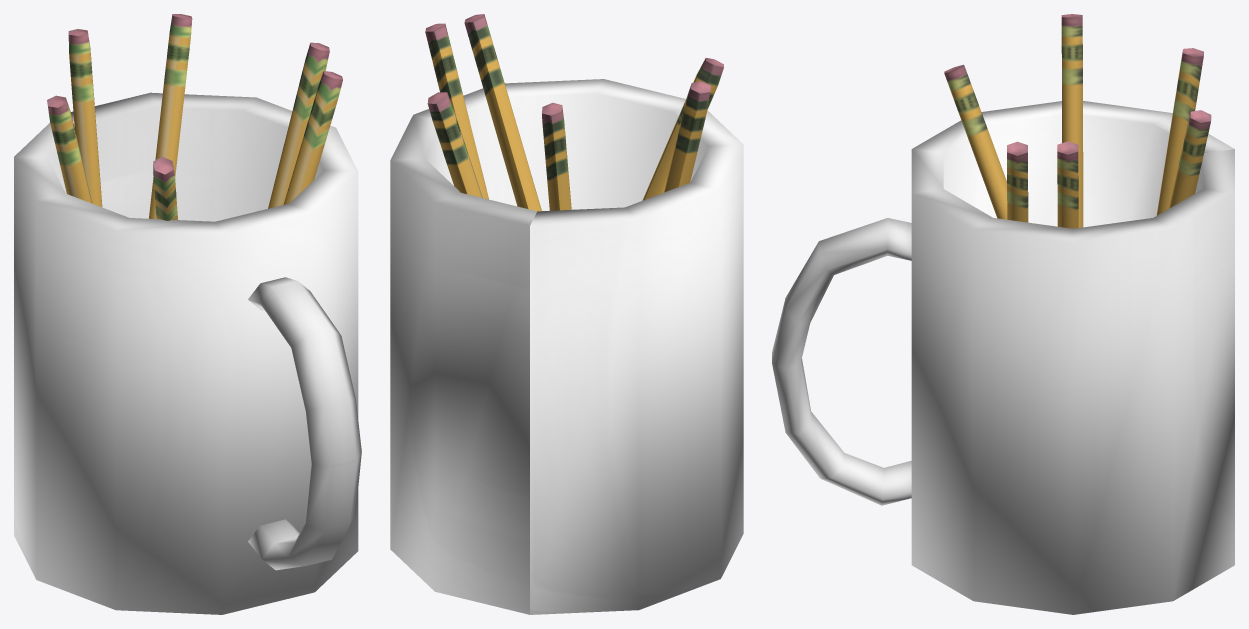
The model's file is Pencil Jar_lod1.fbx.
The picture shows the model from 3 angles, left to right: view 1: azimuth 30°, elevation 25°; view 2: azimuth 150°, elevation 25°; view 3: azimuth 270°, elevation 25°; orthographic projection. The views are drawn at different scales.
Parts seen in each view (by area): view 1: mug, mug_handle, pencil3, pencil4, pencil2, pencil1, pencil5, pencil6; view 2: mug, pencil1, pencil2, pencil3, pencil5, pencil4, pencil6; view 3: mug, mug_handle, pencil6, pencil5, pencil4, pencil3, pencil2, pencil1.
Boxes of the visible parts, x1,y1,x2,y2 form: mug: (14, 92, 358, 614); mug_handle: (248, 277, 361, 570); pencil3: (149, 14, 192, 218); pencil4: (68, 29, 102, 207); pencil2: (268, 42, 329, 208); pencil1: (283, 71, 342, 204); pencil5: (47, 95, 92, 203); pencil6: (153, 156, 177, 220); mug: (390, 79, 743, 614); pencil1: (464, 14, 541, 211); pencil2: (425, 23, 488, 199); pencil3: (427, 92, 482, 197); pencil5: (664, 81, 710, 192); pencil4: (542, 102, 571, 210); pencil6: (642, 58, 723, 200); mug: (911, 101, 1234, 614); mug_handle: (772, 218, 911, 505); pencil6: (944, 64, 1007, 219); pencil5: (1061, 14, 1083, 227); pencil4: (1156, 48, 1203, 215); pencil3: (1169, 110, 1211, 208); pencil2: (1057, 141, 1078, 228); pencil1: (1007, 141, 1028, 222).
Size of the model in its own units: 1.4 by 2.14 by 1.91.
